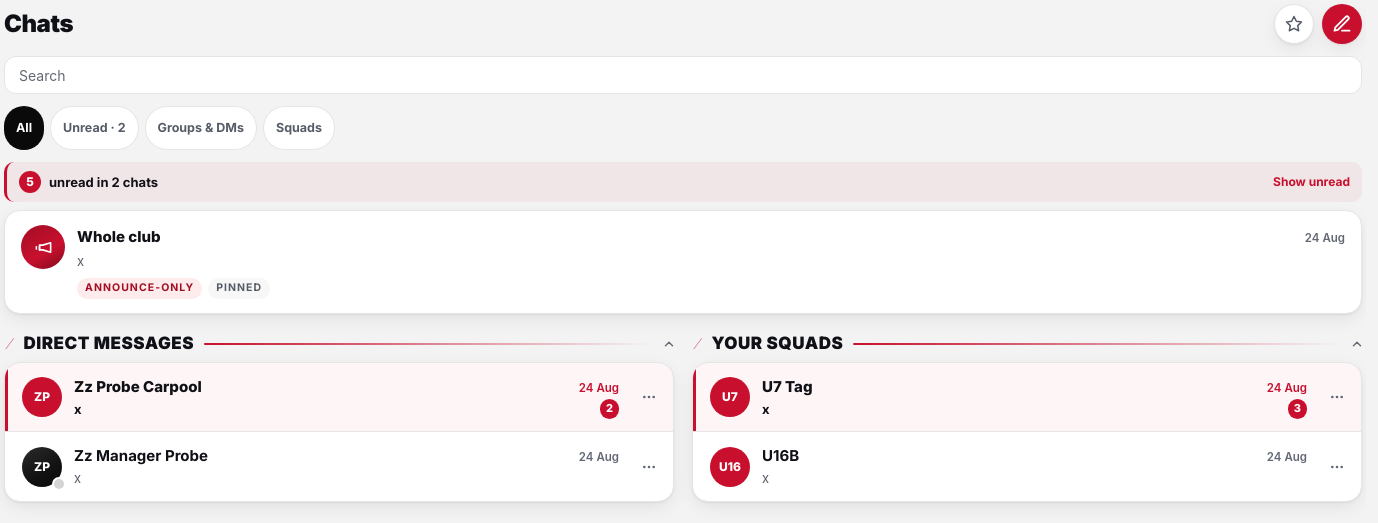
the filter chips › the Unread chip carries its count and narrows to unread rows of any kind
expect the text "U16B" is shown: met, box left=762, top=444, right=799, bottom=468
Step 1. Click the button "Unread · 2" → [94, 128], box left=50, top=106, right=138, bottom=150
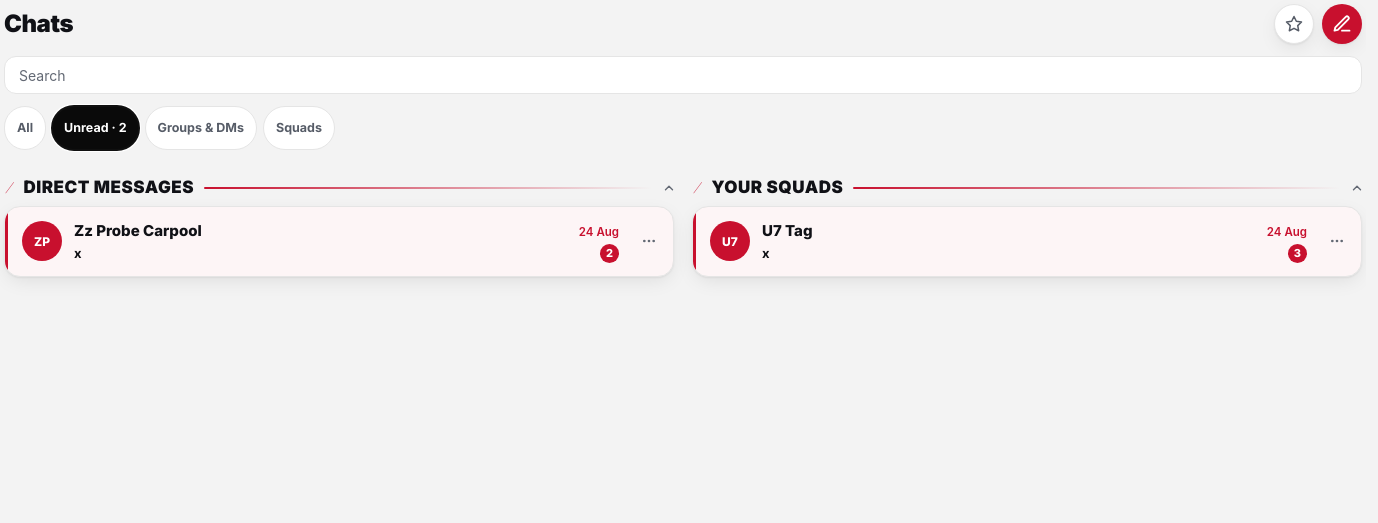
expect the text "U7 Tag" is shown: met, box left=762, top=219, right=812, bottom=243
expect the link "U16B" is gone: met
expect the link "Zz Manager Probe" is gone: met
